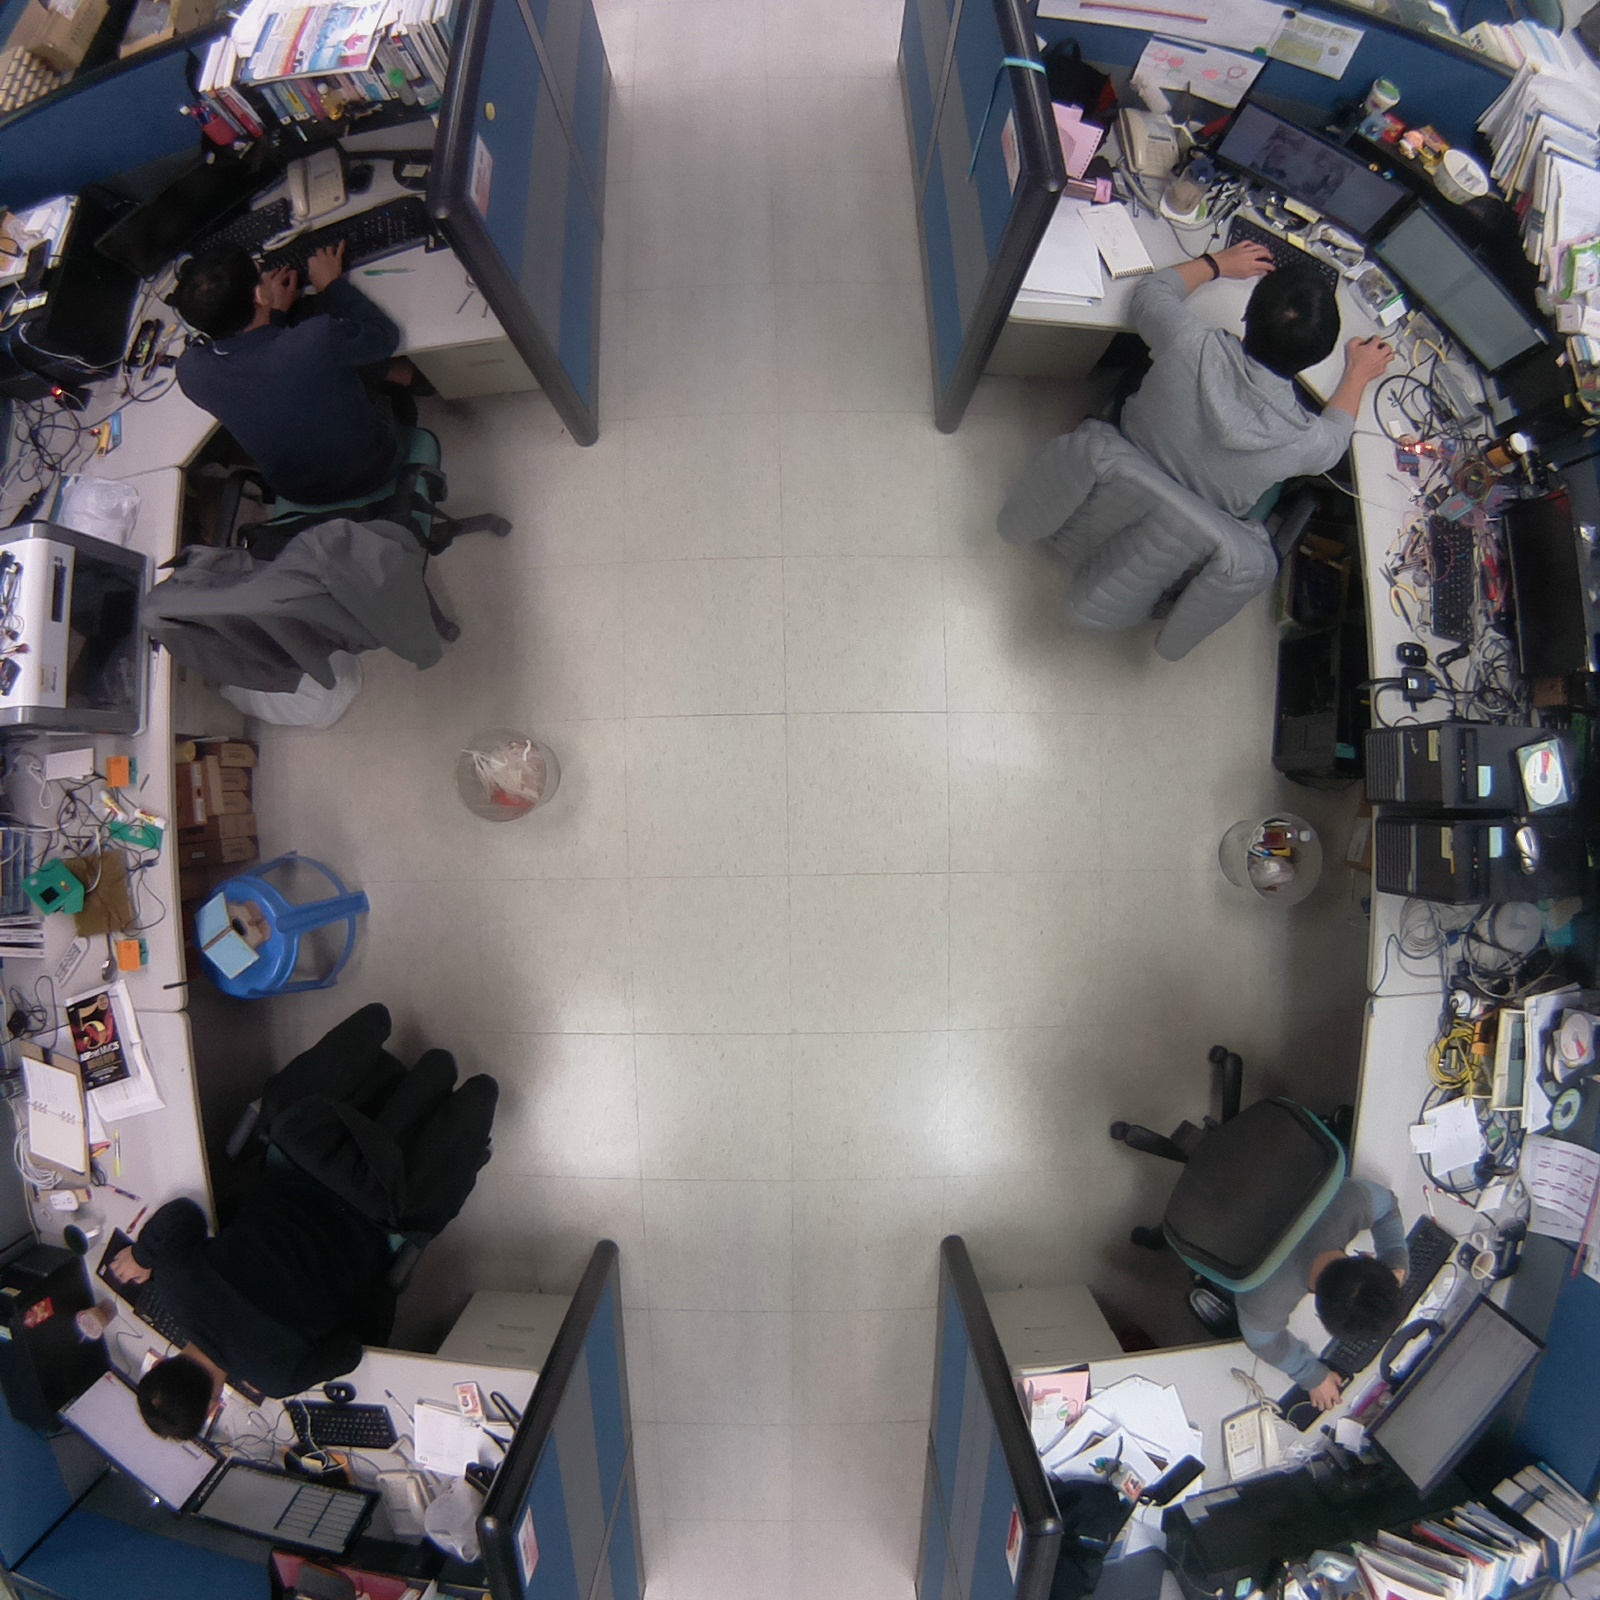head: (1236, 244, 1344, 382), (159, 236, 285, 351), (1306, 1248, 1408, 1355), (132, 1342, 238, 1444)
sitting: (88, 973, 529, 1440), (124, 241, 529, 714), (968, 234, 1396, 673), (1076, 1024, 1427, 1418)
